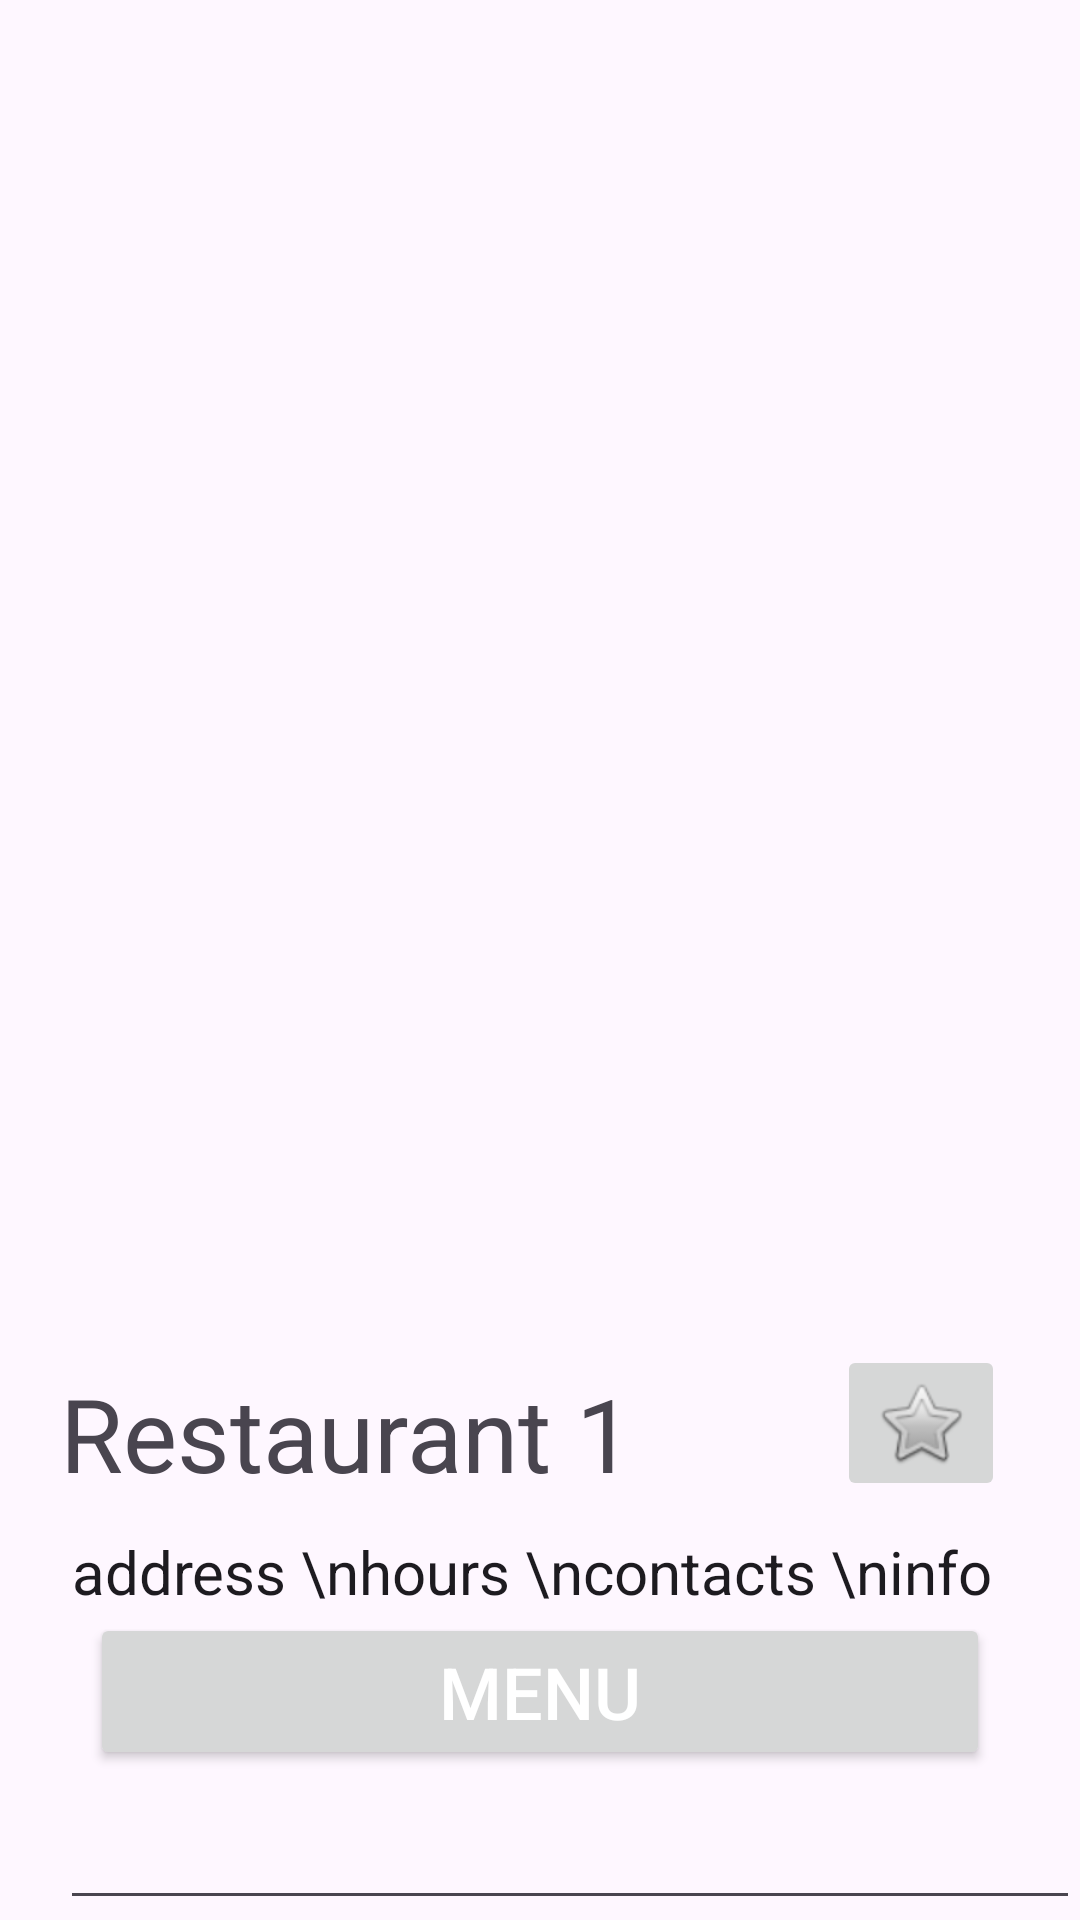

Screen size 1080px×1920px. Icon name, then its center in pixels as (x=x, y=y):
star: (x=921, y=1423)
